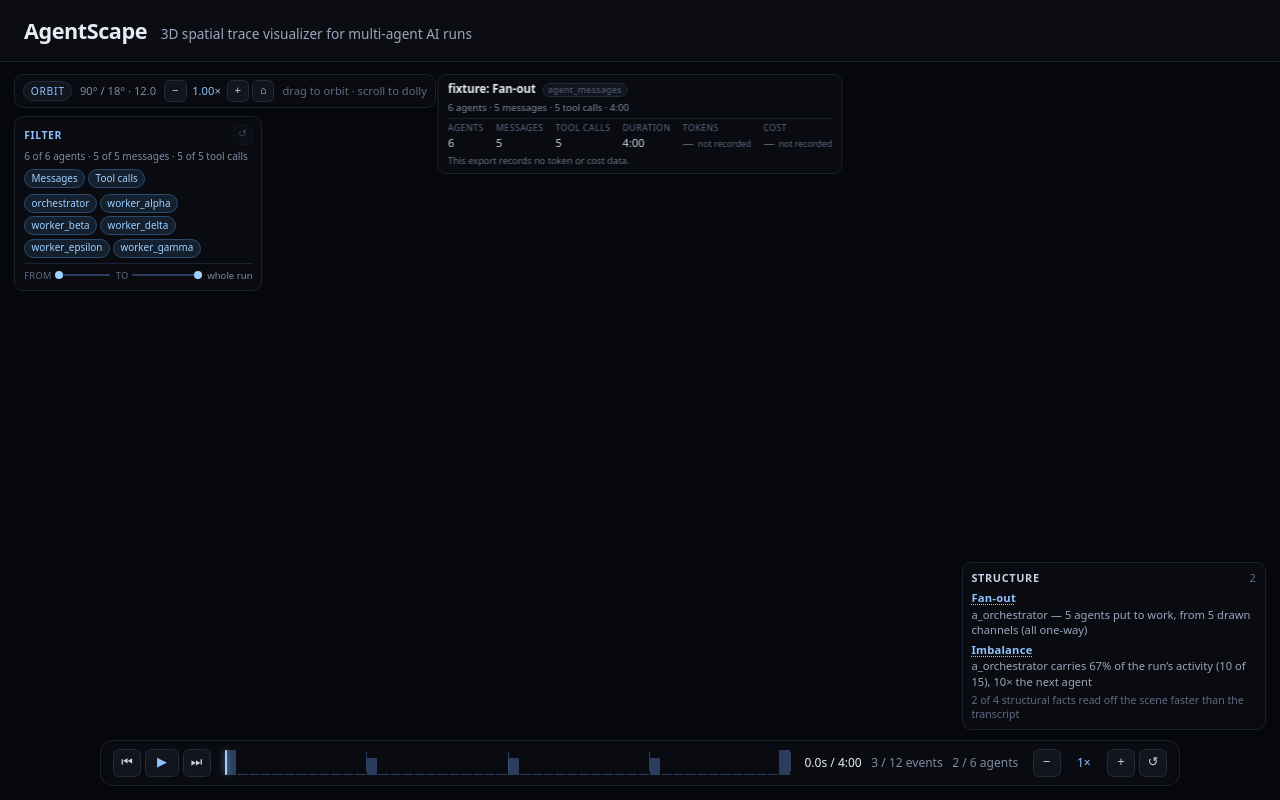
Test: App shell (M1-T1) › dollies the camera from the camera bar (M4-T2)
This screenshot has width=1280, height=800.
What coordinates should you click on to do the following:
click the button named "Zoom in"
I would click on:
 (238, 91)
Its box is [226,80,249,102].
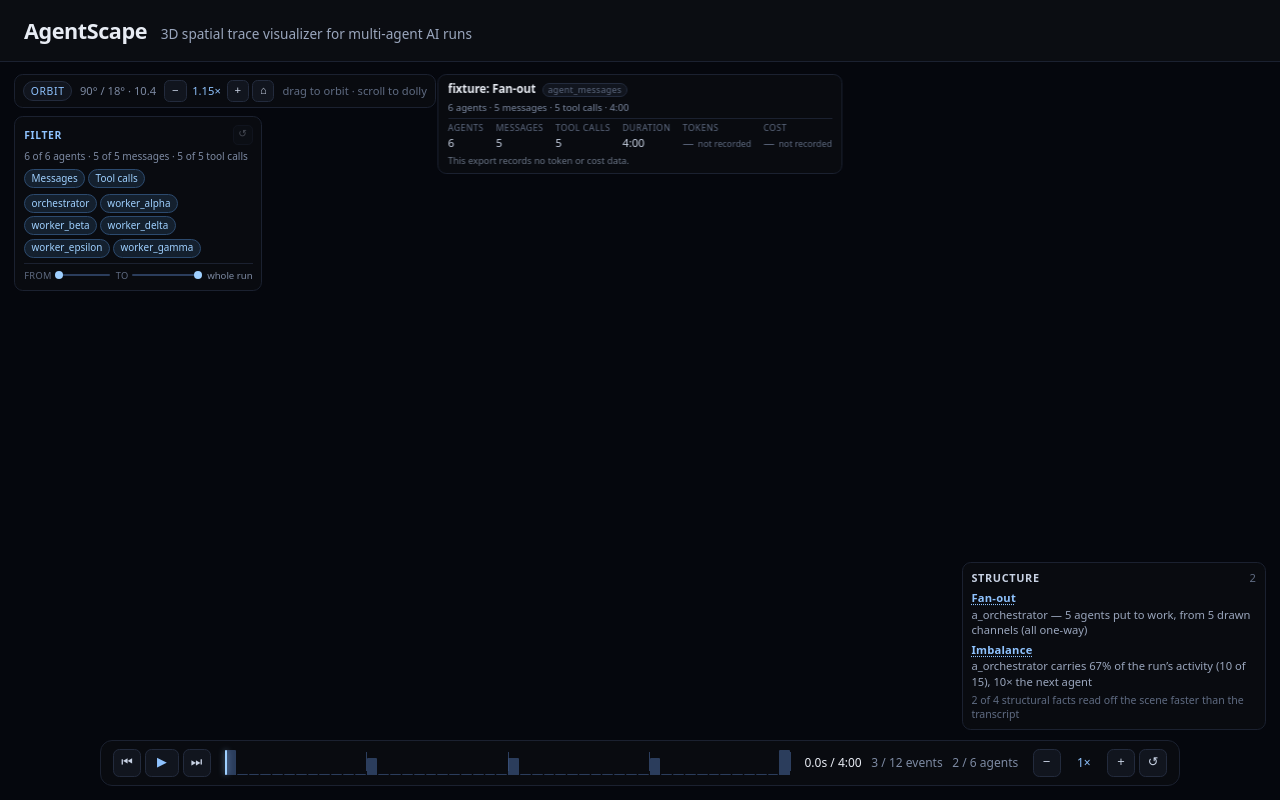
Expected: the text with test id "camera-zoom" reads "1.15×", [192,84,221,98]
What coordinates should you click on to do the following:
click the button named "Reset view"
I would click on:
 (263, 91)
Its box is [252,80,274,102].
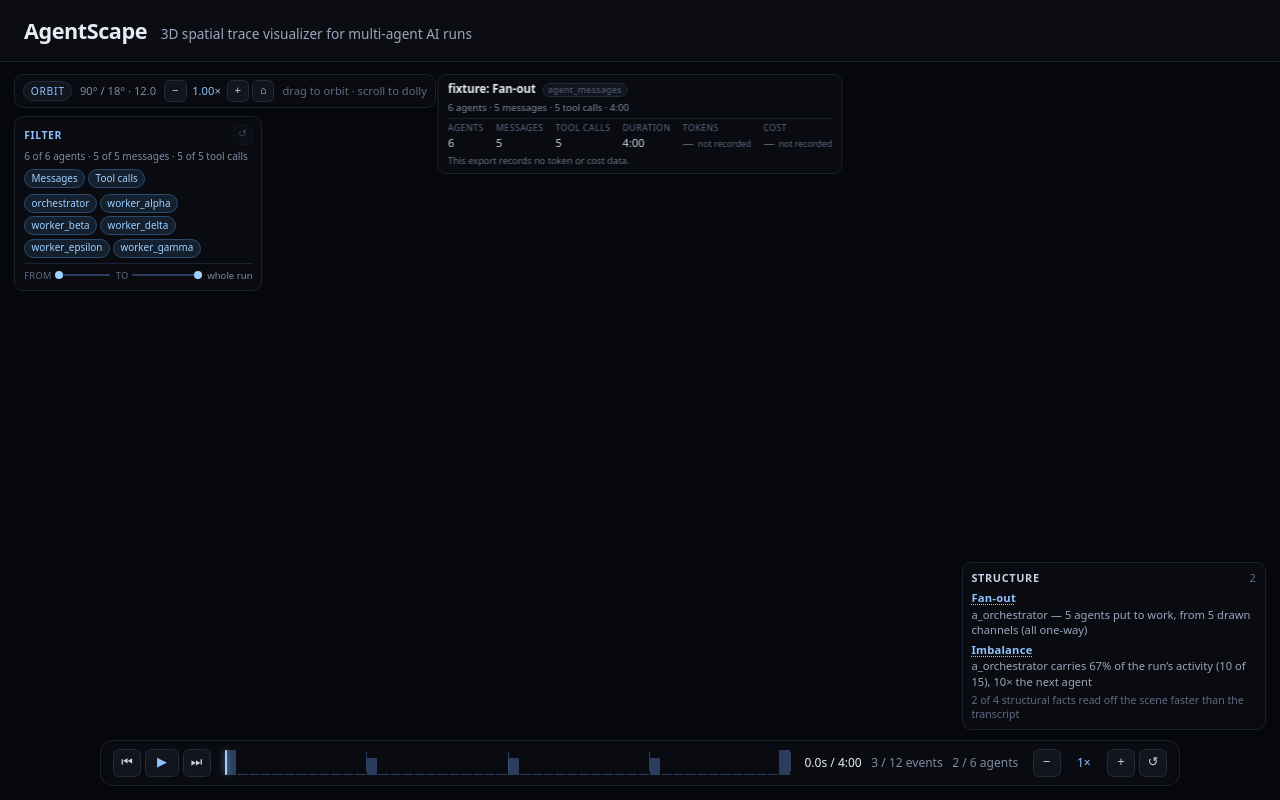
Expected: the text with test id "camera-zoom" reads "1.00×", [192,84,221,98]
